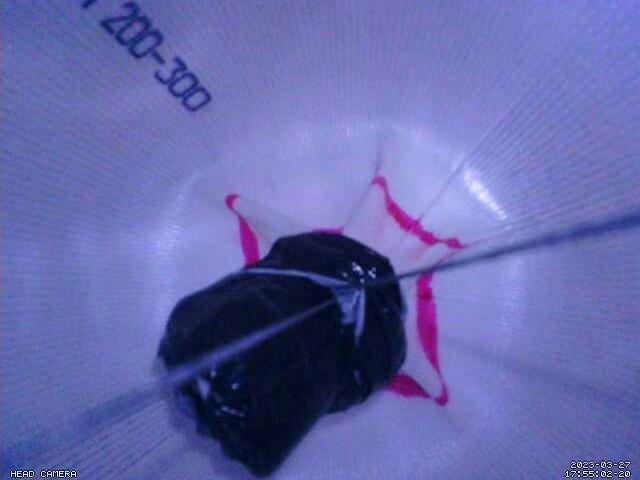red-circle: (225, 175, 464, 408)
